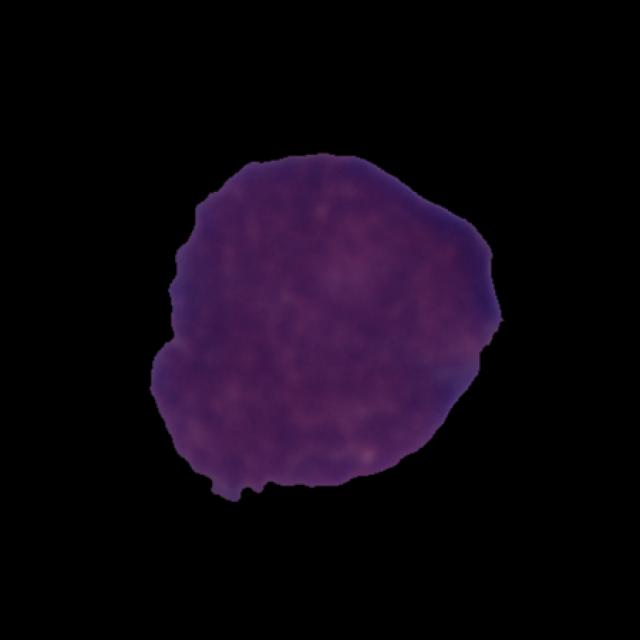ALL Negative Cells: (148, 153, 514, 498)
